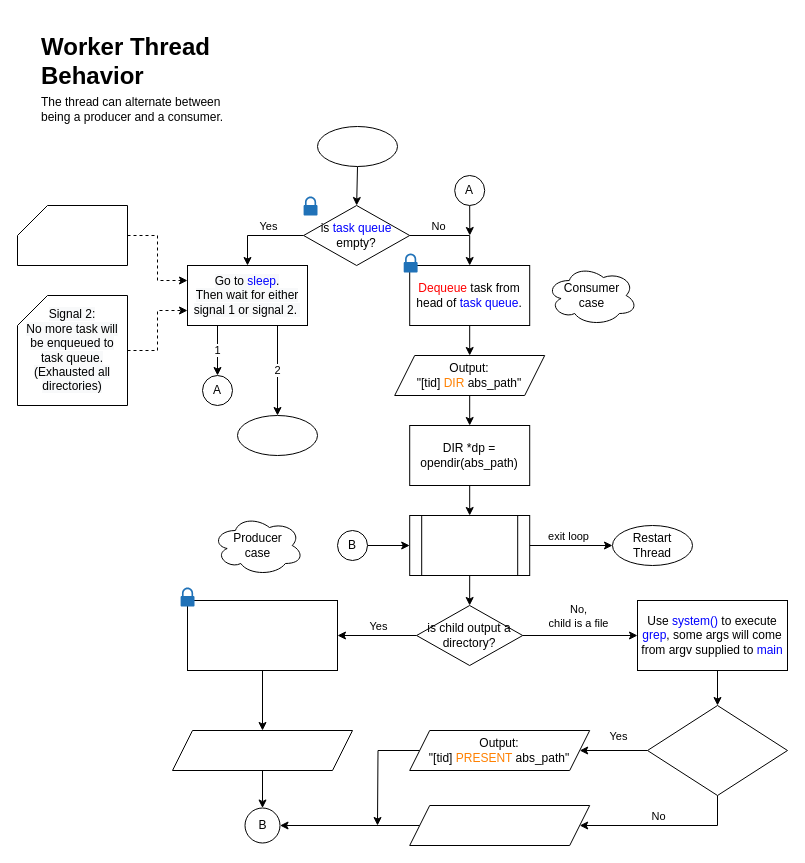
This 805x863 diagram has some shape labels left out. Each missing label, with the centre of its shape:
did grep find match? (use system() return): (x=717, y=750)
Enqueue new task to task queue containing path to the said directory.: (x=262, y=635)
Loop readdir(DP) until NULL: (x=469, y=545)
Output: "[tid] ABSENT abs_path": (x=499, y=825)
Output: "[tid] ENQUEUE abs_path": (x=262, y=750)
Signal 1: Task queue has content.: (x=72, y=235)
Start Thread: (x=357, y=146)
Terminate Thread: (x=277, y=435)
